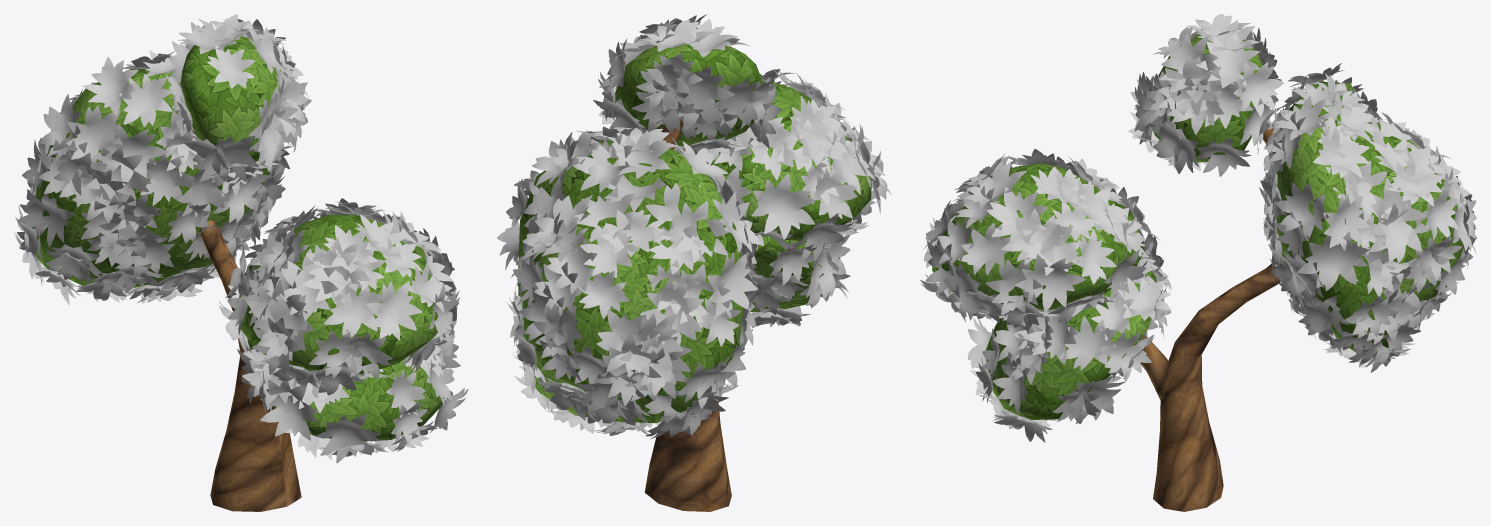
Rendered from tree_03.fbx.
3 views of the same model, side by side, from view 1: azimuth 30°, elevation 25°; view 2: azimuth 150°, elevation 25°; view 3: azimuth 270°, elevation 25° (orthographic). The views are drawn at different scales.
Parts seen in each view (by area): view 1: tree_03; view 2: tree_03; view 3: tree_03.
Part boxes in pixels (left/top/right/bottom): tree_03: left=14, top=14, right=468, bottom=511; tree_03: left=497, top=14, right=891, bottom=511; tree_03: left=920, top=14, right=1476, bottom=511.
Bounding box in the file's own units: 51.61 × 78.22 × 86.31.
